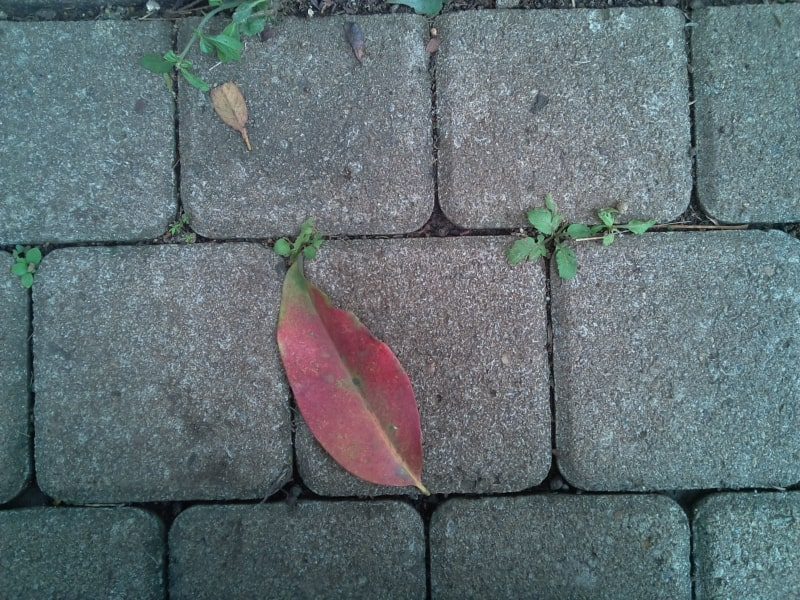Weed: (511, 210, 649, 272), (158, 6, 258, 82), (277, 229, 323, 265), (8, 245, 43, 292), (159, 216, 201, 249)
